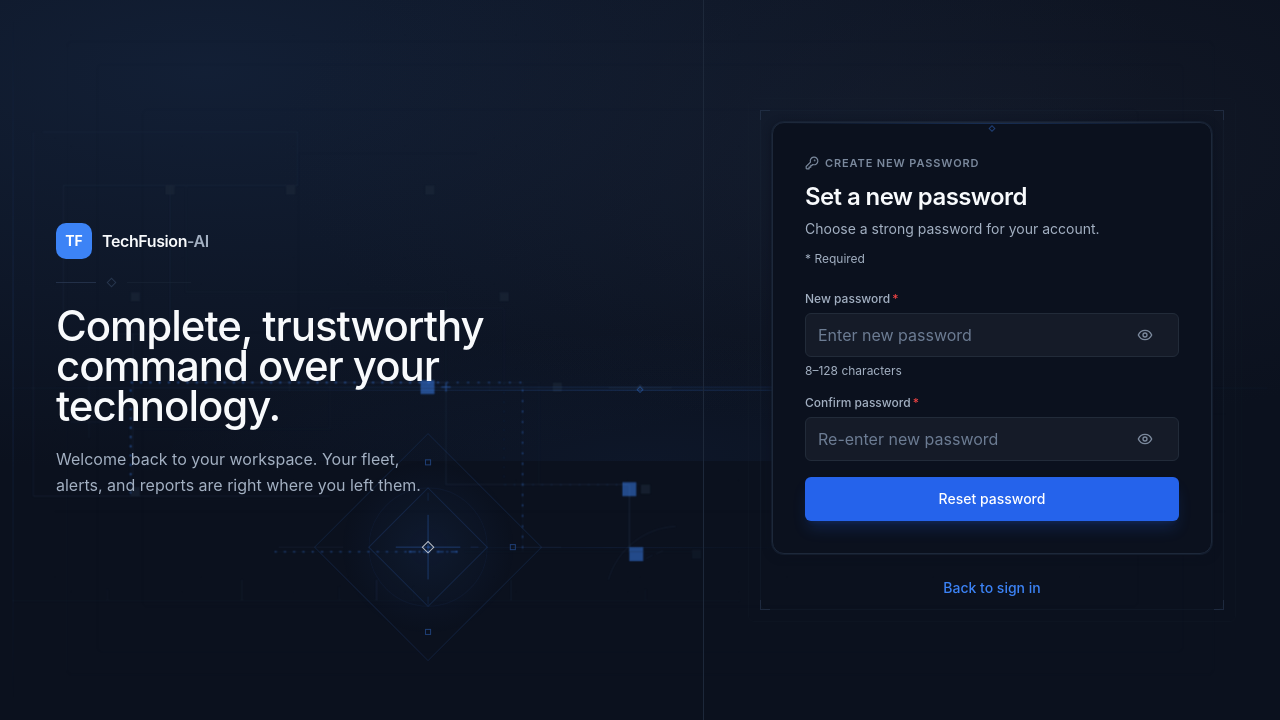
ResetPasswordForm -- validation › 13: rejects empty password on submit
Click the button "Reset password". click: coordinates (992, 499)
box: [805,477,1179,521]
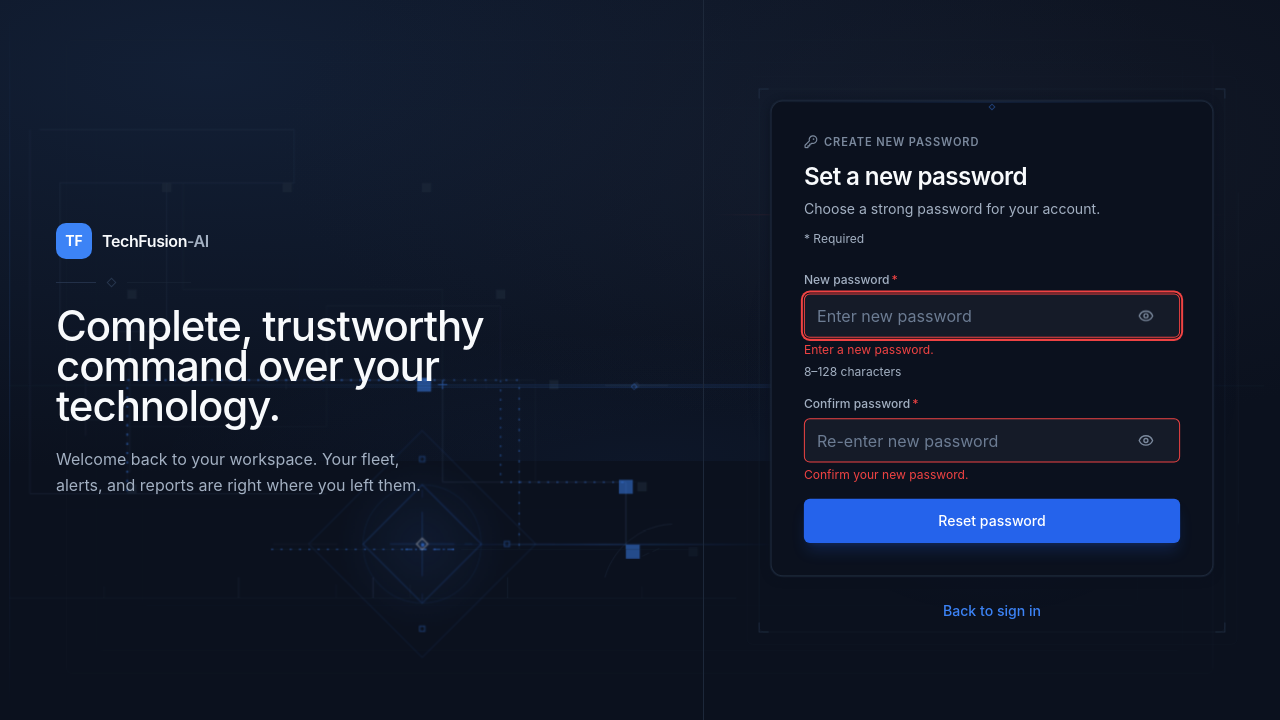
Check: the text "Enter a new password." is shown, box [804,341,934,356]
